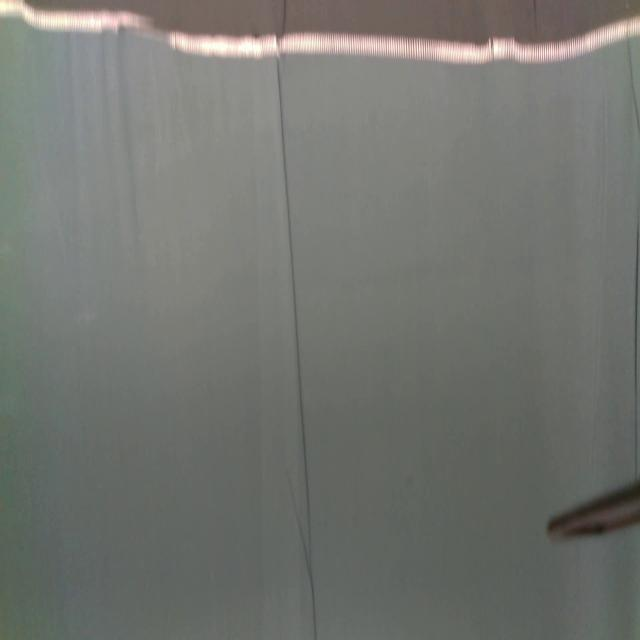crease: (274, 56, 318, 640), (632, 212, 640, 478)
